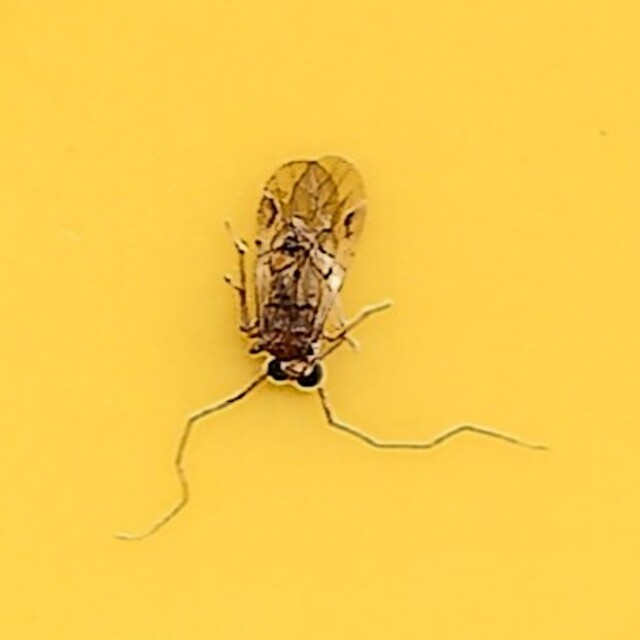Plecoptera: (172, 156, 468, 484)
